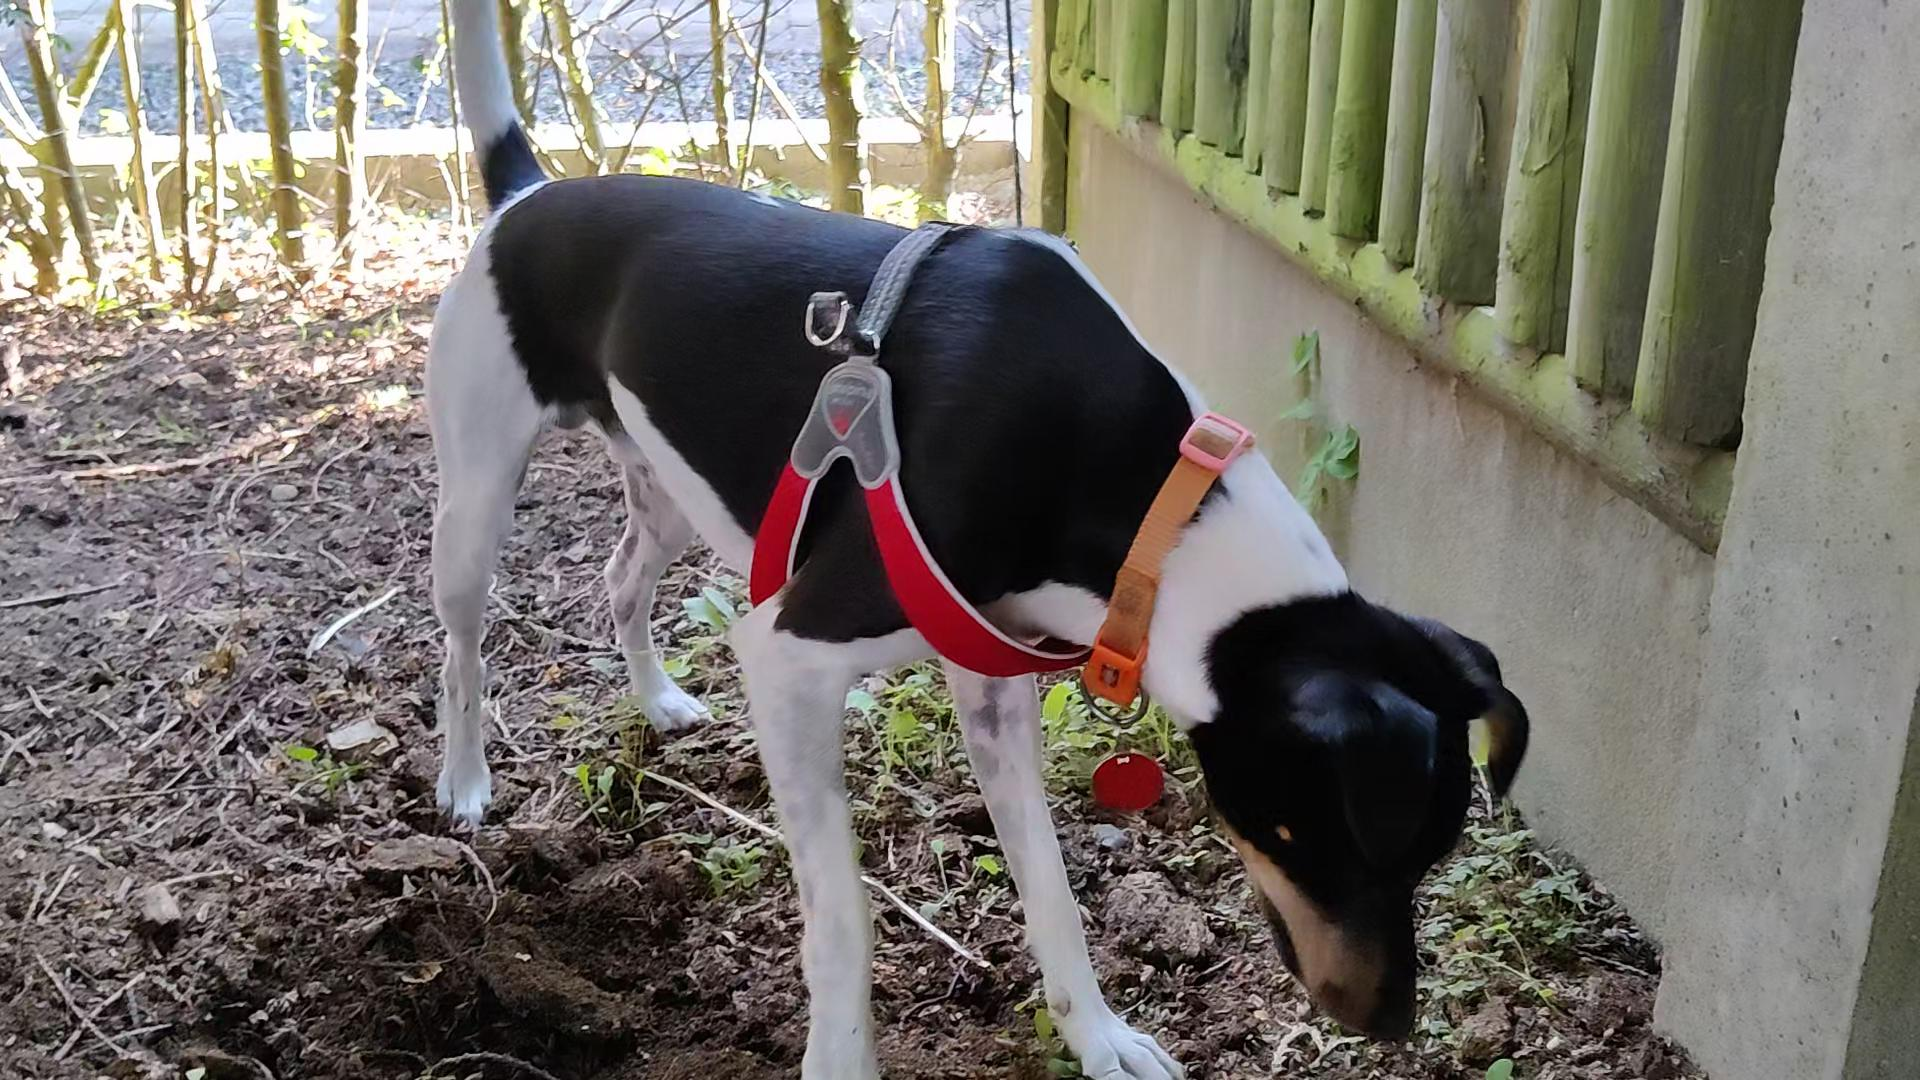Dog: (389, 0, 1545, 1079)
